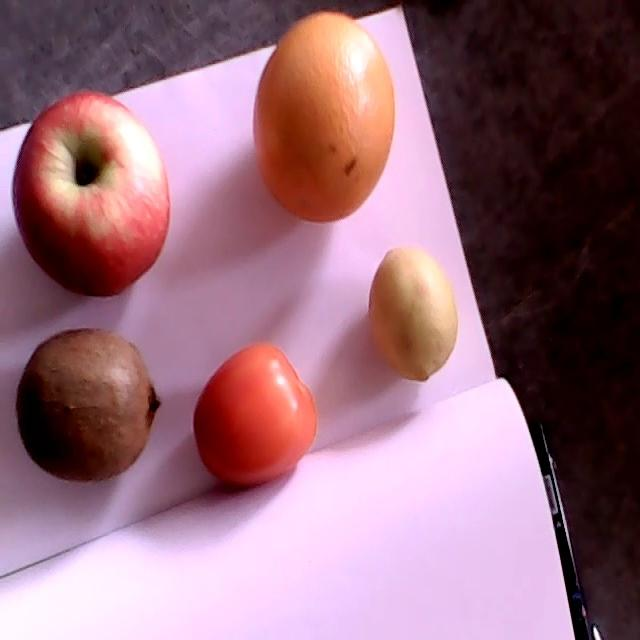apple: (14, 91, 169, 298)
kiwi: (15, 329, 163, 482)
lemon: (368, 248, 457, 383)
orange: (253, 12, 394, 224)
tomato: (193, 341, 317, 488)
